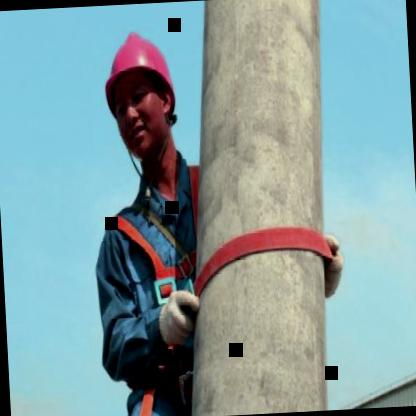helmet: (91, 11, 190, 186)
